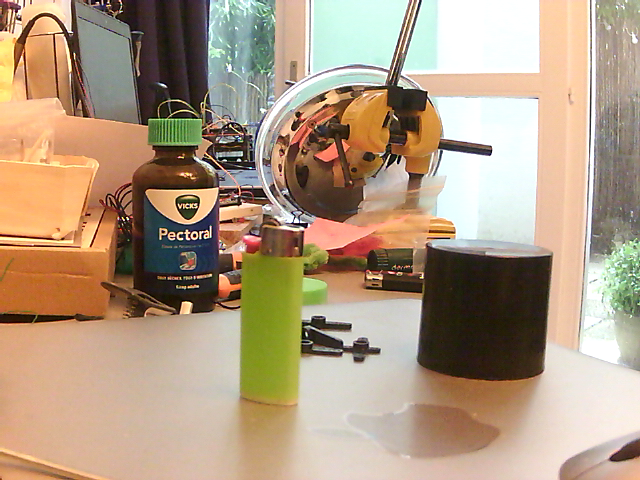lighter: (240, 224, 305, 408), (361, 268, 425, 296)
